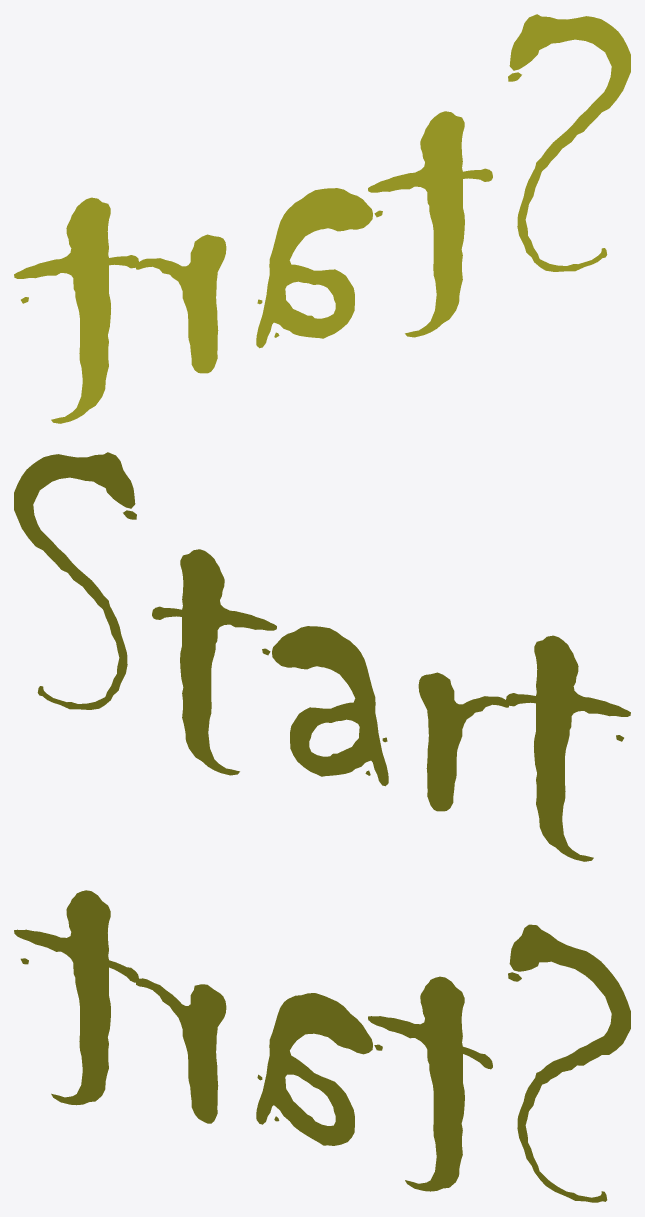
Rendered from startText.obj.
3 views of the same model, one above another, from view 1: azimuth 30°, elevation 25°; view 2: azimuth 150°, elevation 25°; view 3: azimuth 330°, elevation 25° (orthographic).
Visible parts, largest first — view 1: startText; view 2: startText; view 3: startText.
Part boxes in pixels (x1,y1,x2,y2): startText: [14, 14, 630, 423]; startText: [14, 452, 630, 861]; startText: [14, 890, 630, 1202].
Bounding box in the file's own units: 1.24 × 0.5654 × 0.
